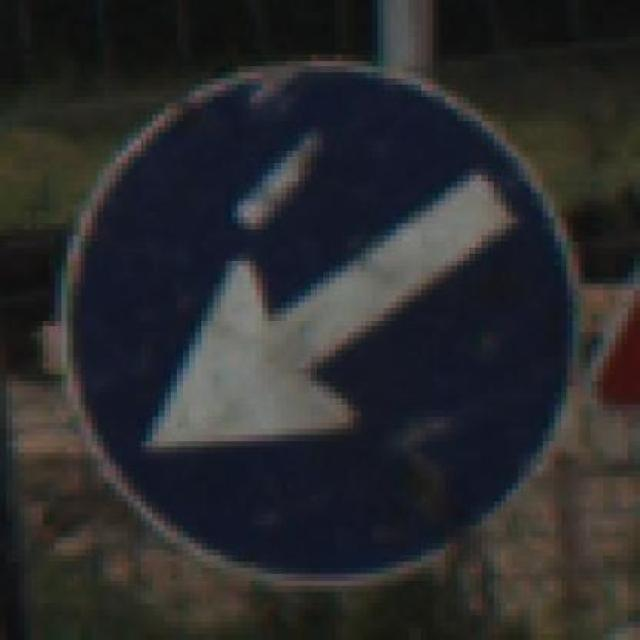Keep-Left: (42, 36, 610, 604)
